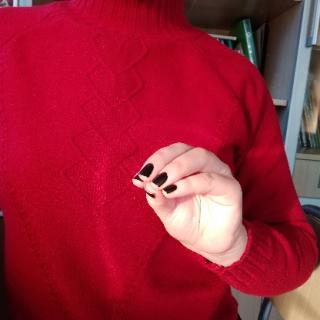HA: (133, 136, 253, 268)
